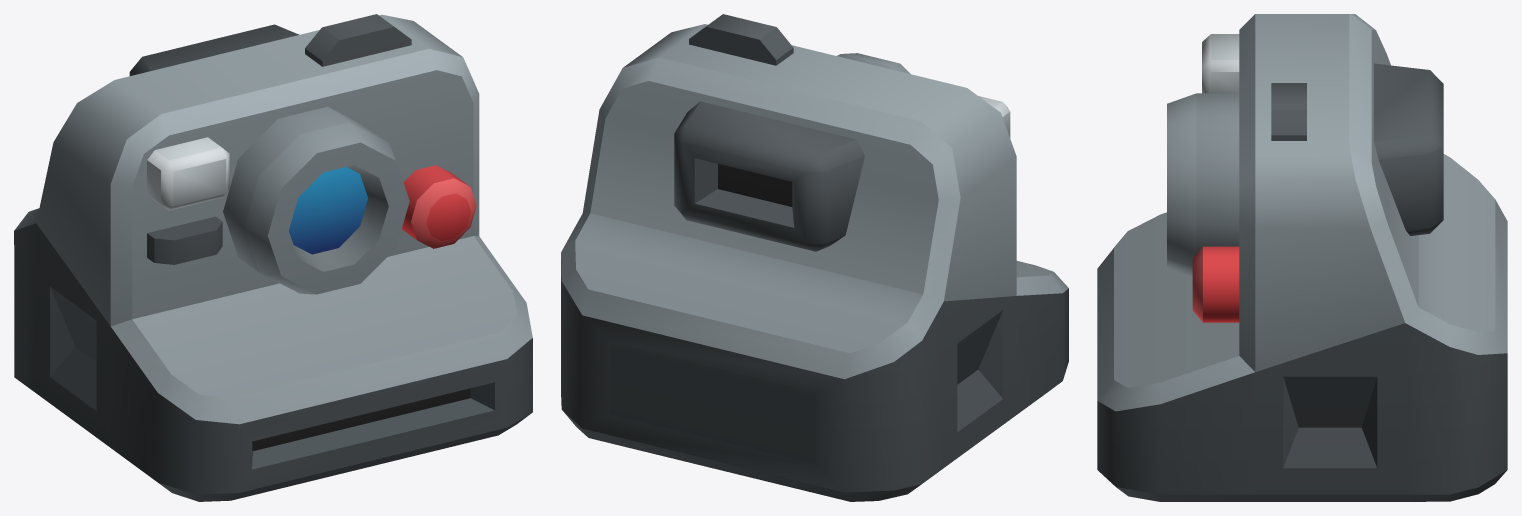
Rendered from instantcamera.glb.
3 renders of one model, left to right at view 1: azimuth 30°, elevation 25°; view 2: azimuth 150°, elevation 25°; view 3: azimuth 270°, elevation 25°, orthographic. The views are drawn at different scales.
Parts seen in each view (by area): view 1: instantcamera; view 2: instantcamera; view 3: instantcamera.
Boxes of the visible parts, box(x1,y1,x2,y2) form: instantcamera: box(14, 14, 532, 501); instantcamera: box(561, 14, 1068, 501); instantcamera: box(1097, 14, 1507, 501).
Size of the model in its own units: 0.6008 by 0.5576 by 0.5744.
Materials: 1 (1 with a texture image).
